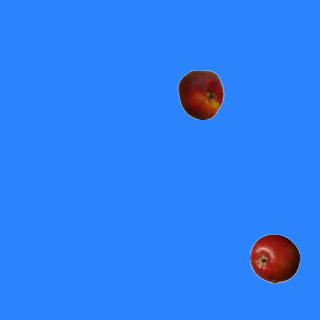Apple Braeburn: (249, 233, 299, 283)
Nectarine Flat: (175, 69, 225, 119)
